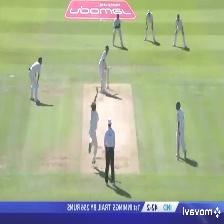batsman: (97, 43, 115, 94)
